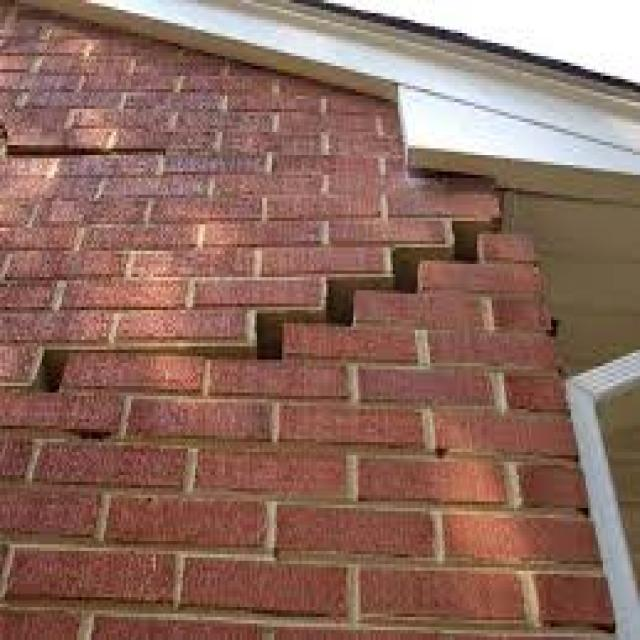Crack: (0, 185, 512, 399), (0, 119, 166, 158)
